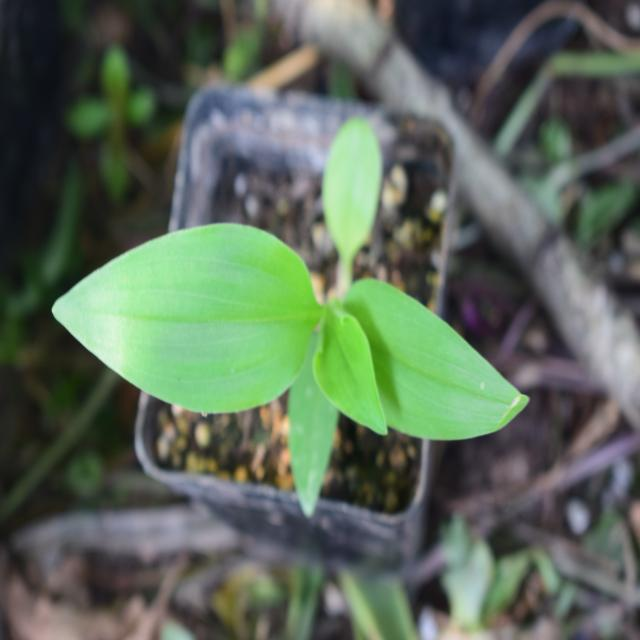Common Dayflower: (63, 177, 521, 440)
